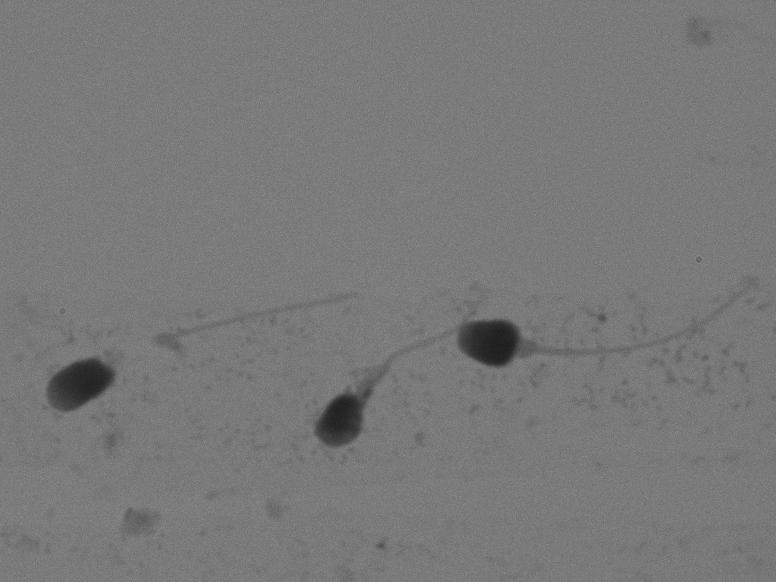Abnormal: (20, 266, 390, 433), (449, 247, 767, 404), (299, 279, 446, 463)
